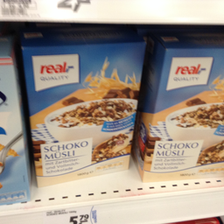cereal: (22, 43, 146, 189), (141, 38, 223, 182)
